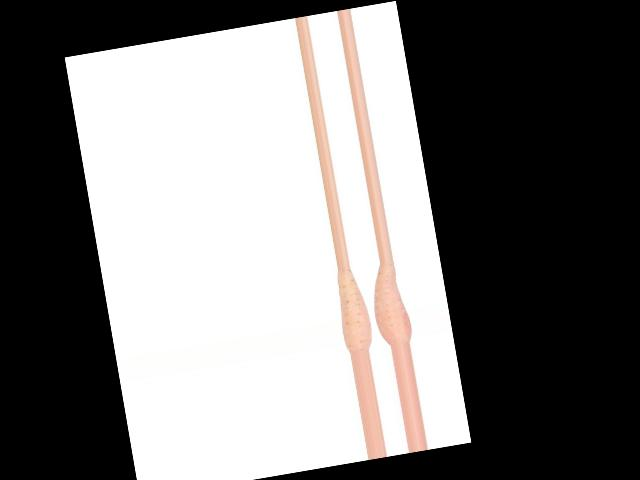sweet_potato: (333, 269, 375, 353)
